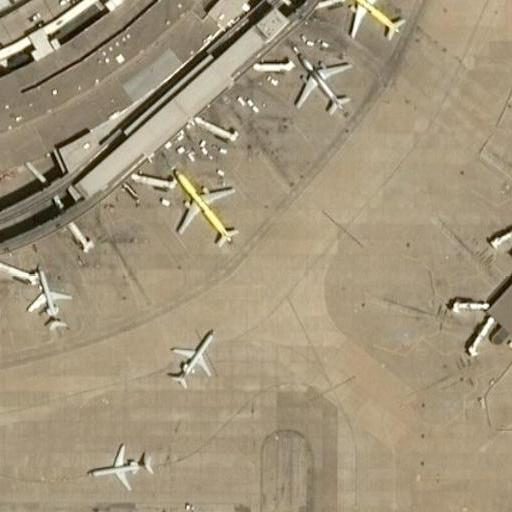Aircraft: (166, 164, 243, 247), (292, 45, 351, 118), (87, 436, 158, 494), (19, 264, 75, 332), (334, 0, 411, 45), (167, 322, 212, 396)
